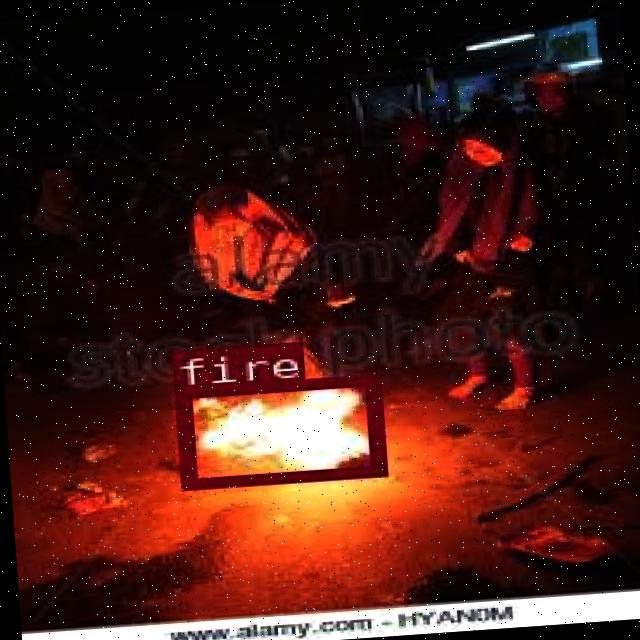fire: (171, 372, 383, 488)
